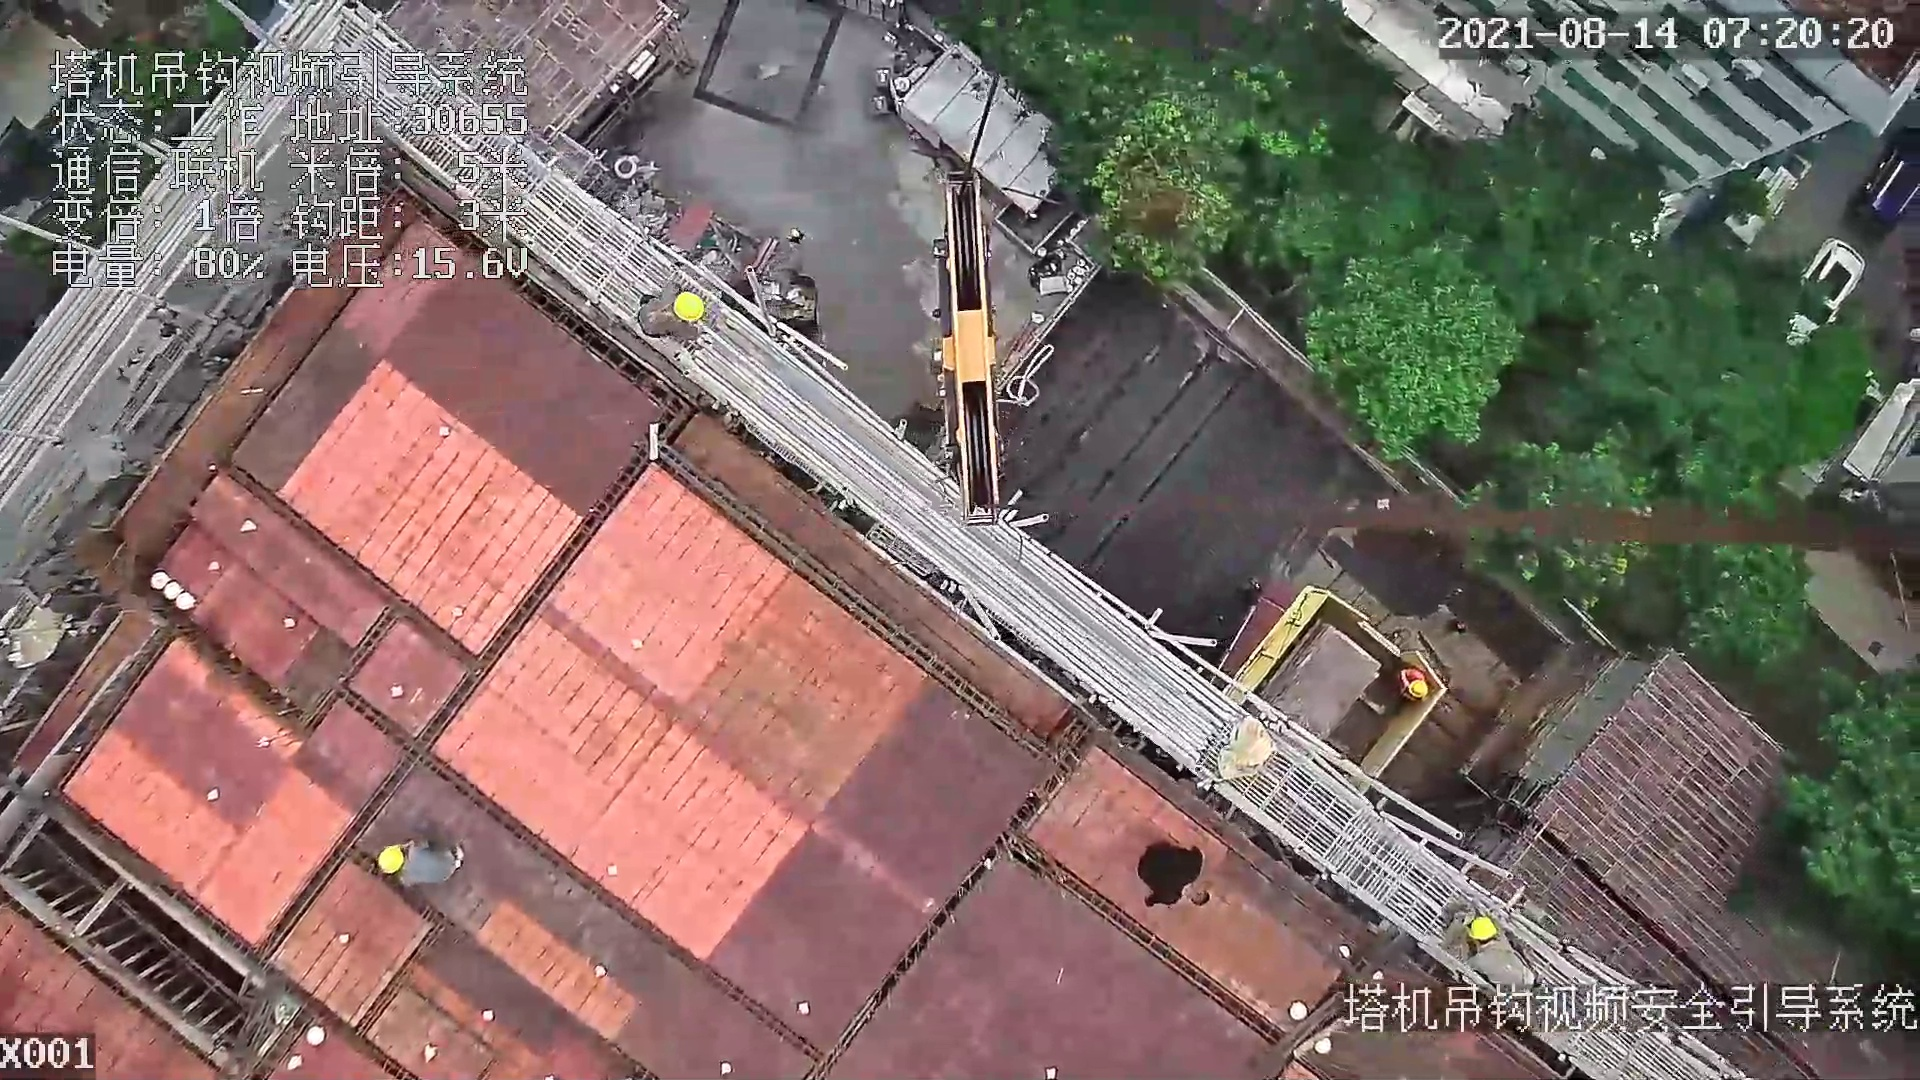helmet: (1392, 661, 1430, 713), (667, 285, 711, 326), (373, 843, 407, 875), (1467, 913, 1500, 945), (1408, 675, 1428, 698)
person: (1431, 904, 1555, 1009), (1126, 831, 1217, 917), (382, 833, 479, 889), (632, 273, 700, 350)
